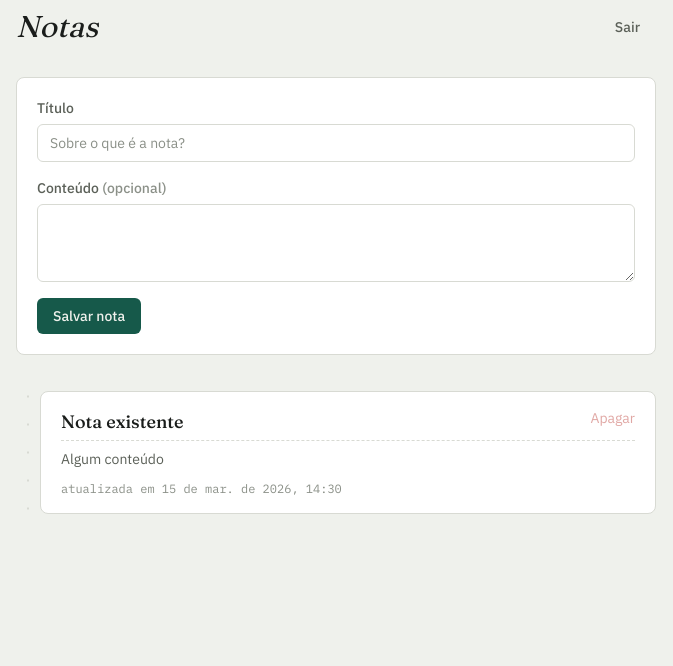
Test: NotesView › adiciona a nota criada pelo NewNoteForm no topo da lista
Expected: the heading "Nota existente" is shown, [61,408,184,436]
Type "Nota nova" into the field labelled "Título" at [336, 143], box [37,124,635,162]
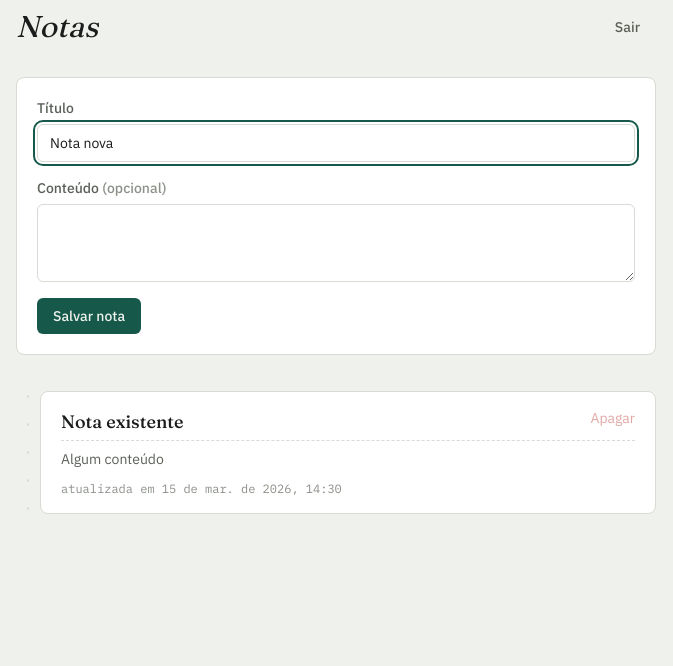
Click the button "Salvar nota" at [89, 316], box [37,298,141,334]
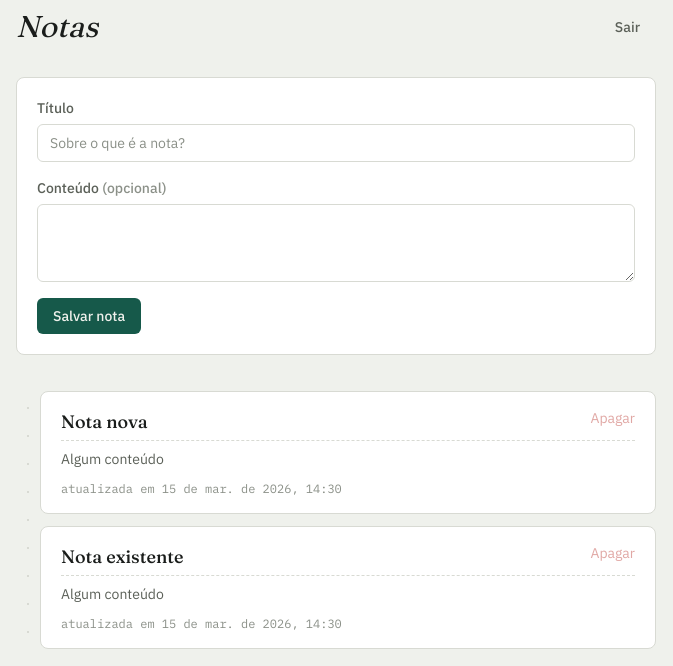
Expected: the heading "Nota existente" is shown, [61,543,184,571]
Expected: the heading "Nota nova" is shown, [61,408,148,436]
